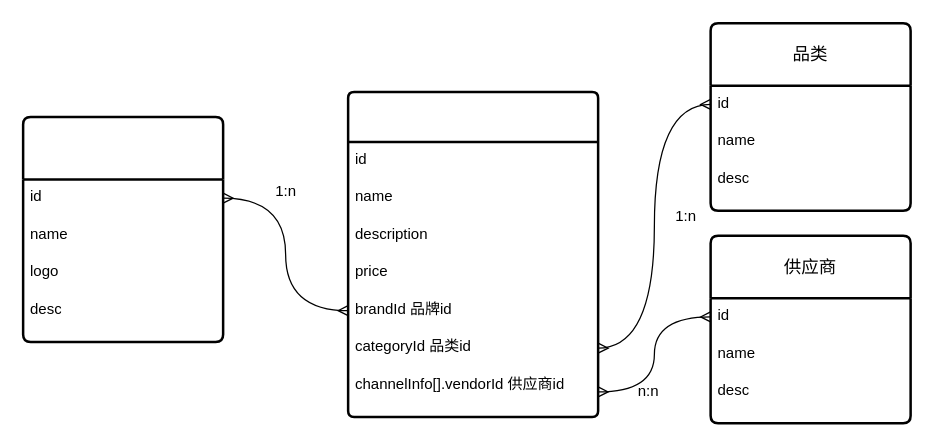
Some shapes in this 933 by 448 pixel diagram are drawn without their labels. Each missing label, with the box of its shape:
品牌: (21, 115, 224, 342)
商品: (346, 90, 599, 418)
